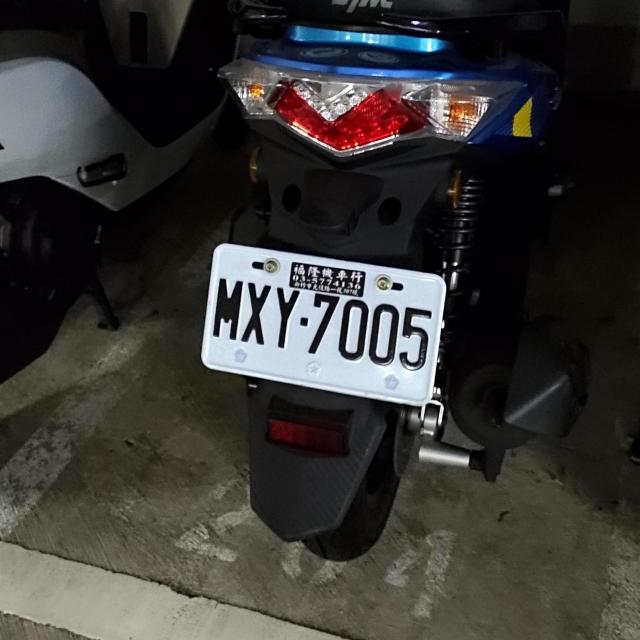W: (193, 238, 450, 407)
